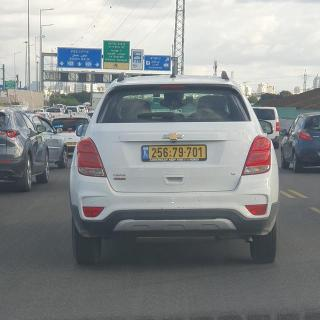LicensePlate: (149, 146, 205, 158)
